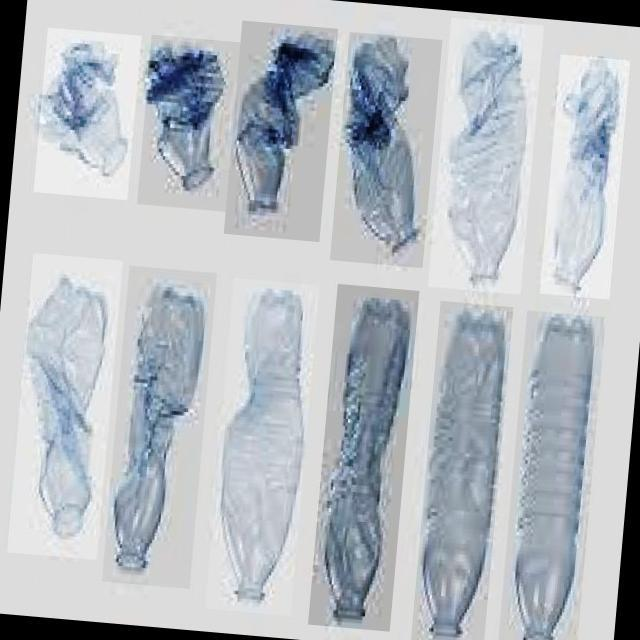defected: (204, 278, 320, 616), (307, 284, 418, 632), (102, 266, 216, 588), (7, 252, 122, 560), (426, 17, 543, 294), (329, 31, 442, 268), (224, 20, 338, 242), (539, 54, 630, 299), (33, 27, 141, 200), (137, 35, 240, 212)
good: (497, 310, 605, 640), (408, 299, 512, 640)
